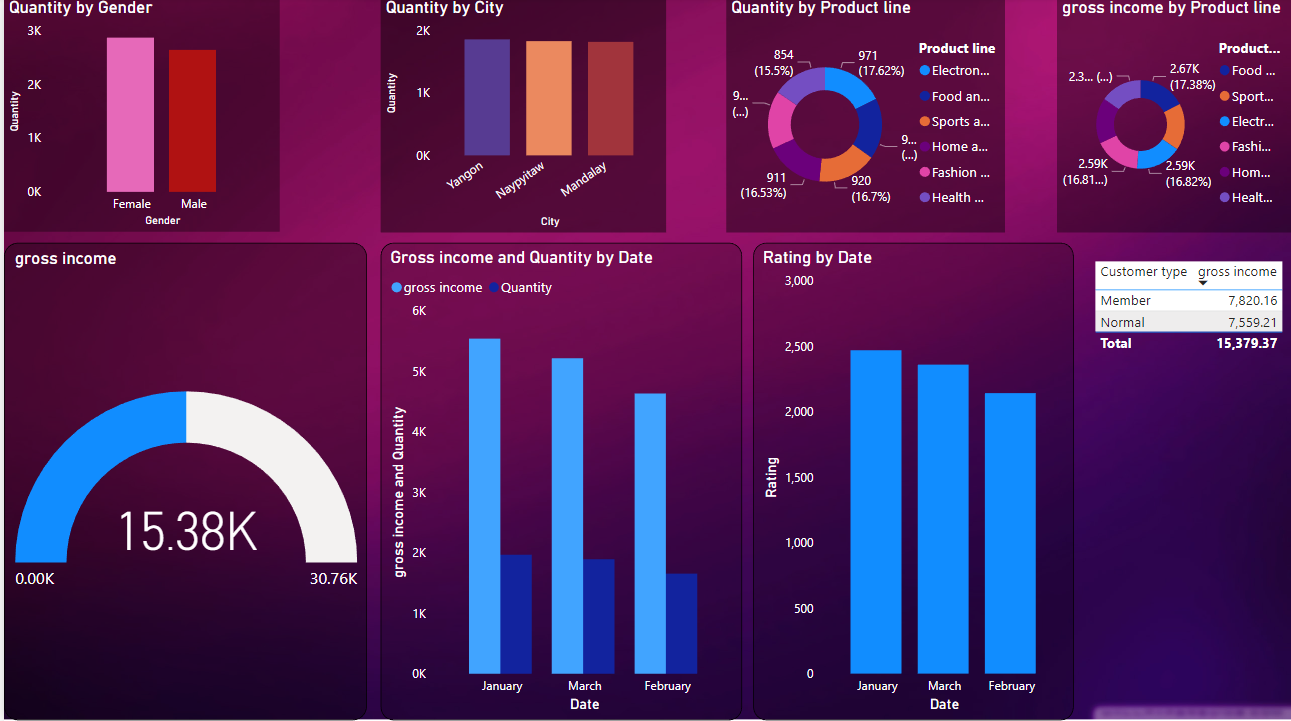

The page's visual inventory and layout, read from the dashboard file:
{"tool":"powerbi","page":{"name":"SuperMarket Sales Analysis","canvas":[1280,720],"ordinal":0},"visuals":[{"type":"clusteredColumnChart","fields":{"Y":["Sum(supermarket_sales - Sheet1.Quantity)"],"Category":["supermarket_sales - Sheet1.City"]},"box":[373.9,0,283.4,234],"z":0},{"type":"donutChart","fields":{"Category":["supermarket_sales - Sheet1.Product line"],"Y":["Sum(supermarket_sales - Sheet1.Quantity)"]},"box":[717.6,0,277.4,234],"z":1000},{"type":"donutChart","fields":{"Category":["supermarket_sales - Sheet1.Product line"],"Y":["Sum(supermarket_sales - Sheet1.gross income)"]},"box":[1046.8,0,232.8,234],"z":2000},{"type":"clusteredColumnChart","fields":{"Y":["Sum(supermarket_sales - Sheet1.Quantity)"],"Category":["supermarket_sales - Sheet1.Gender"]},"box":[0,0,273.8,233.5],"z":3000},{"type":"gauge","fields":{"Y":["Sum(supermarket_sales - Sheet1.gross income)"]},"box":[0,244.8,360.6,475.2],"z":4000},{"type":"tableEx","fields":{"Values":["supermarket_sales - Sheet1.Customer type","Sum(supermarket_sales - Sheet1.gross income)"]},"box":[1079.4,258.1,200.2,102.5],"z":5000},{"type":"clusteredColumnChart","title":"Gross income and Quantity by Date","fields":{"Category":["supermarket_sales - Sheet1.Date"],"Y":["Sum(supermarket_sales - Sheet1.gross income)","Sum(supermarket_sales - Sheet1.Quantity)"]},"box":[373.9,244.8,359.4,475.2],"z":6000},{"type":"clusteredColumnChart","fields":{"Y":["Sum(supermarket_sales - Sheet1.Rating)"],"Category":["supermarket_sales - Sheet1.Date"]},"box":[745.3,244.8,318.4,475.2],"z":7000}]}

Visuals, with their boxes in screenshot pixels (x1, y1, x2, y2), scaled from the page's 1280x720 canvas onto the 1291x721 screenshot:
clusteredColumnChart - Sum(supermarket_sales - Sheet1.Quantity) x supermarket_sales - Sheet1.City: 377,0,663,234
donutChart - supermarket_sales - Sheet1.Product line x Sum(supermarket_sales - Sheet1.Quantity): 724,0,1004,234
donutChart - supermarket_sales - Sheet1.Product line x Sum(supermarket_sales - Sheet1.gross income): 1056,0,1290,234
clusteredColumnChart - Sum(supermarket_sales - Sheet1.Quantity) x supermarket_sales - Sheet1.Gender: 0,0,276,234
gauge - Sum(supermarket_sales - Sheet1.gross income): 0,245,364,720
tableEx - supermarket_sales - Sheet1.Customer type x Sum(supermarket_sales - Sheet1.gross income): 1089,258,1290,361
"Gross income and Quantity by Date" clusteredColumnChart: 377,245,740,720
clusteredColumnChart - Sum(supermarket_sales - Sheet1.Rating) x supermarket_sales - Sheet1.Date: 752,245,1073,720
